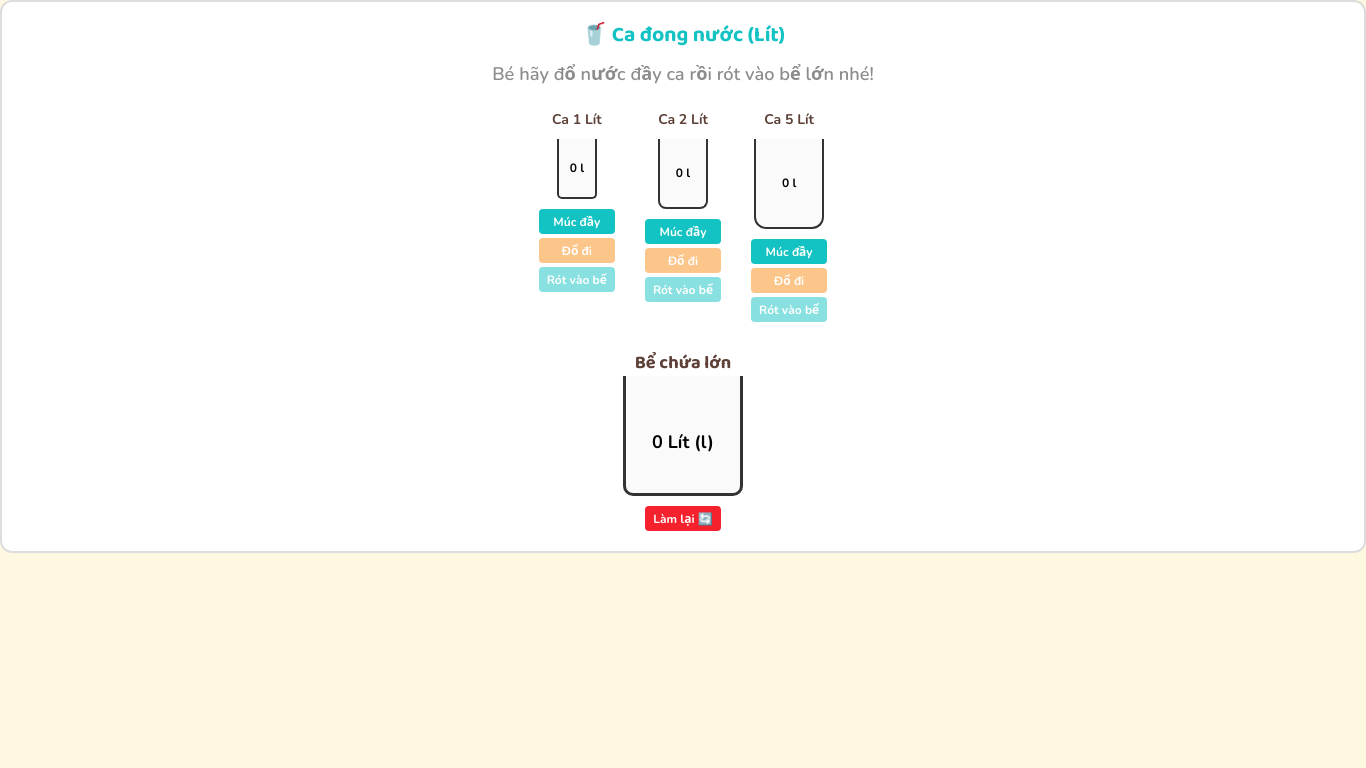
Scenario: LitreCup visualizer › pours multiple cups consecutively and accumulates volume in the tank
Note: Fill and pour 1l
Click the button with test id "fill-1l" at (577, 222), box [539,209,615,234]
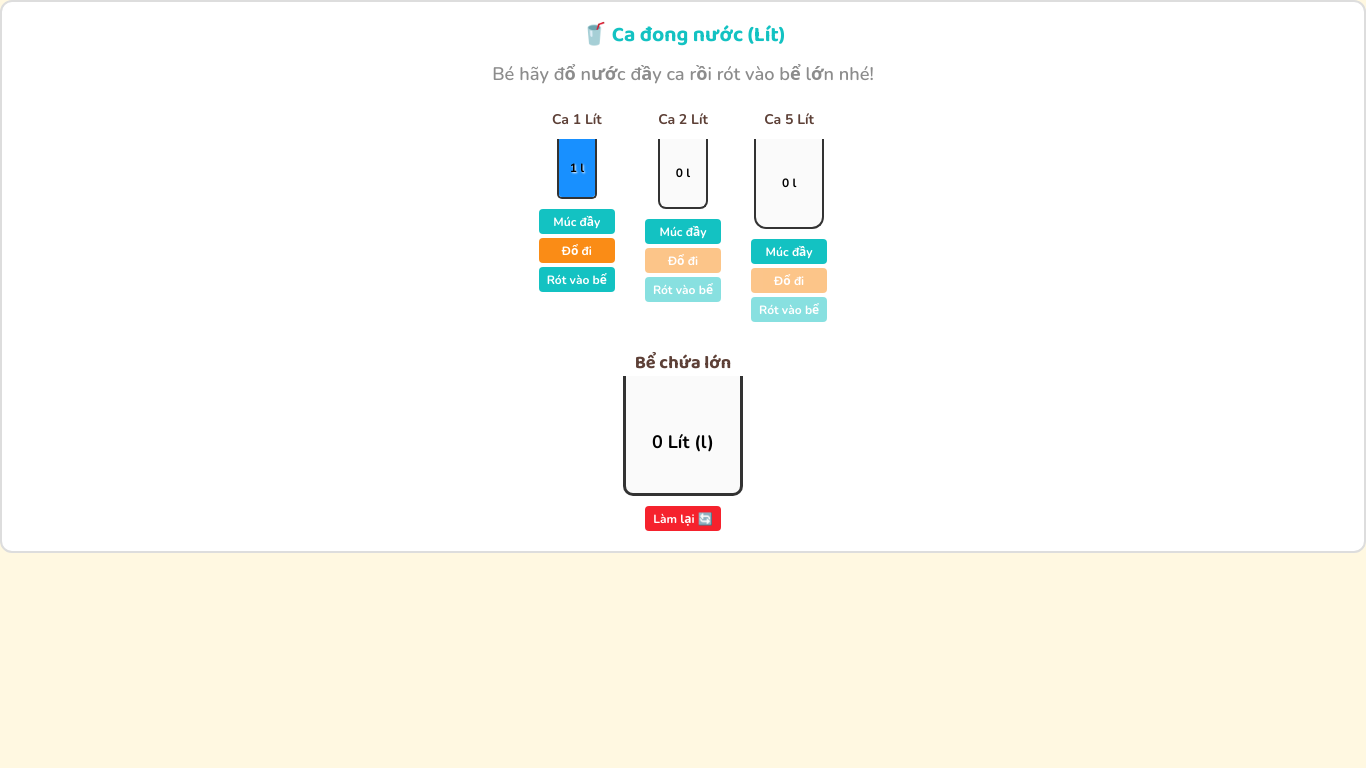
Click the button with test id "pour-1l" at (577, 280), box [539,267,615,292]
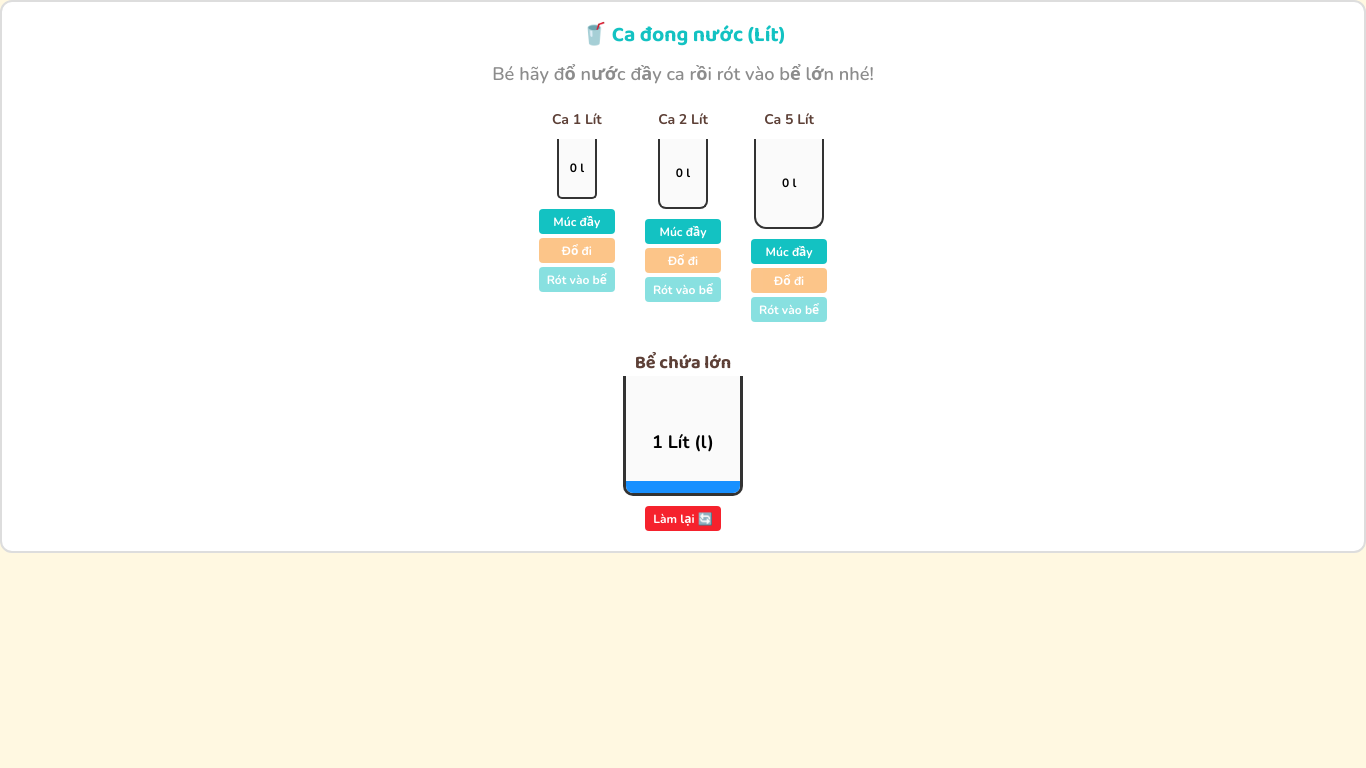
Now the text with test id "tank-label" reads "1 Lít (l)", box [652,430,714,454]
Note: Fill and pour 2l
Click the button with test id "fill-2l" at (683, 232), box [645,219,721,244]
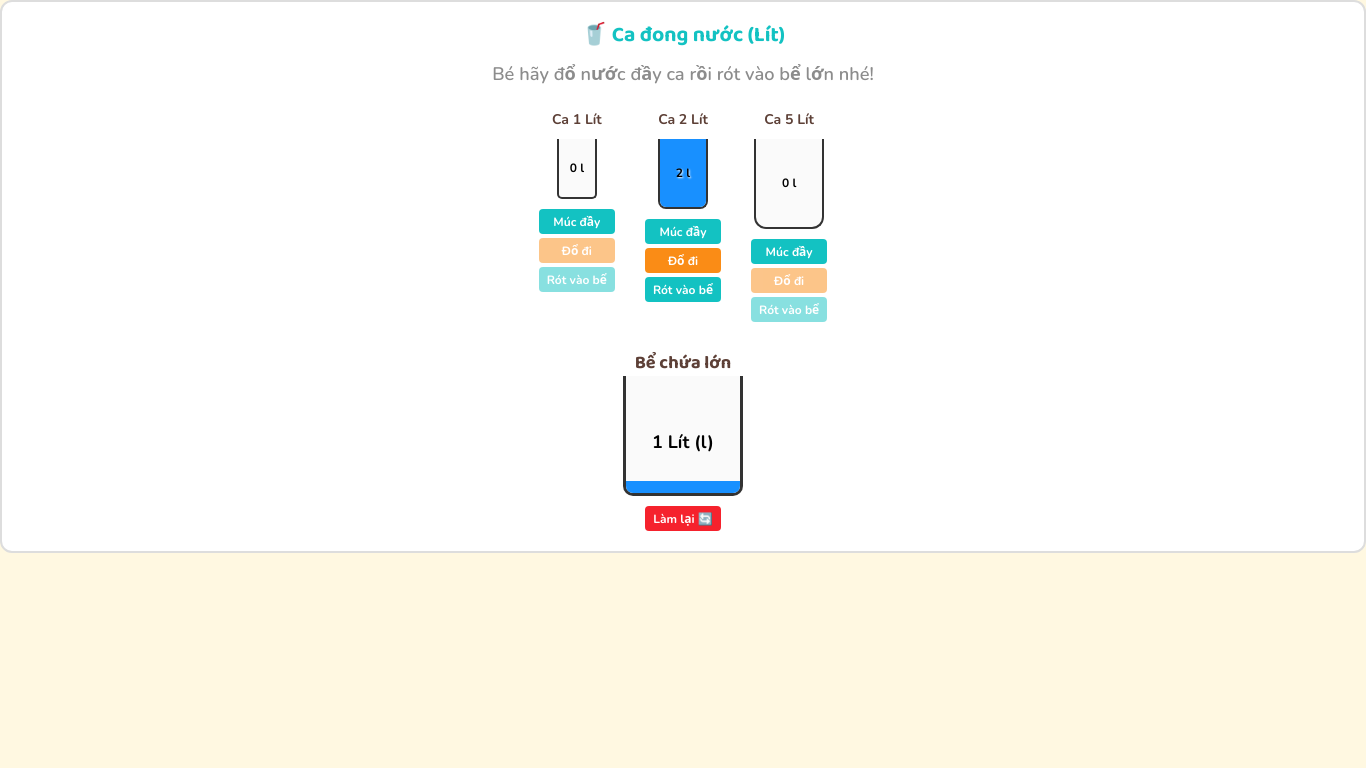
Click the button with test id "pour-2l" at (683, 290), box [645,277,721,302]
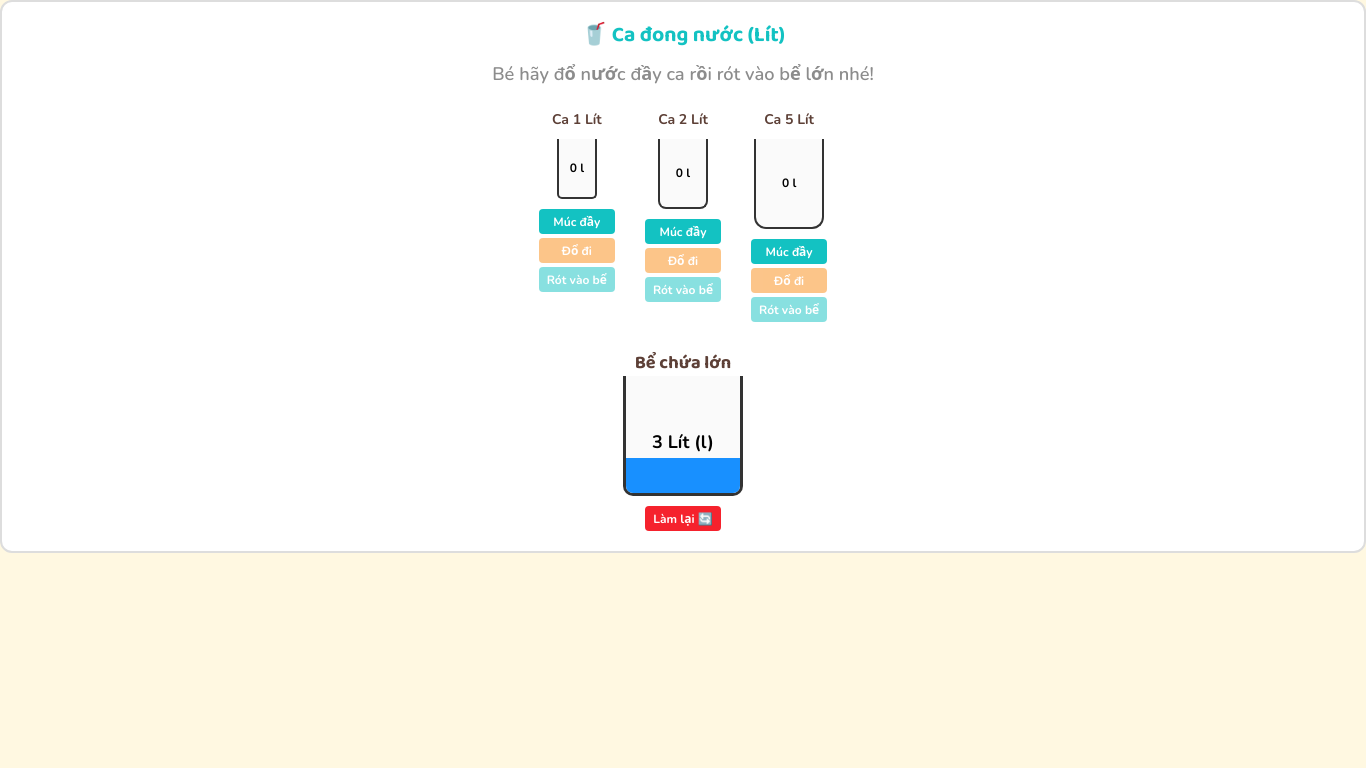
Now the text with test id "tank-label" reads "3 Lít (l)", box [652,430,714,454]
Note: Fill and pour 5l
Click the button with test id "fill-5l" at (789, 252), box [751,239,827,264]
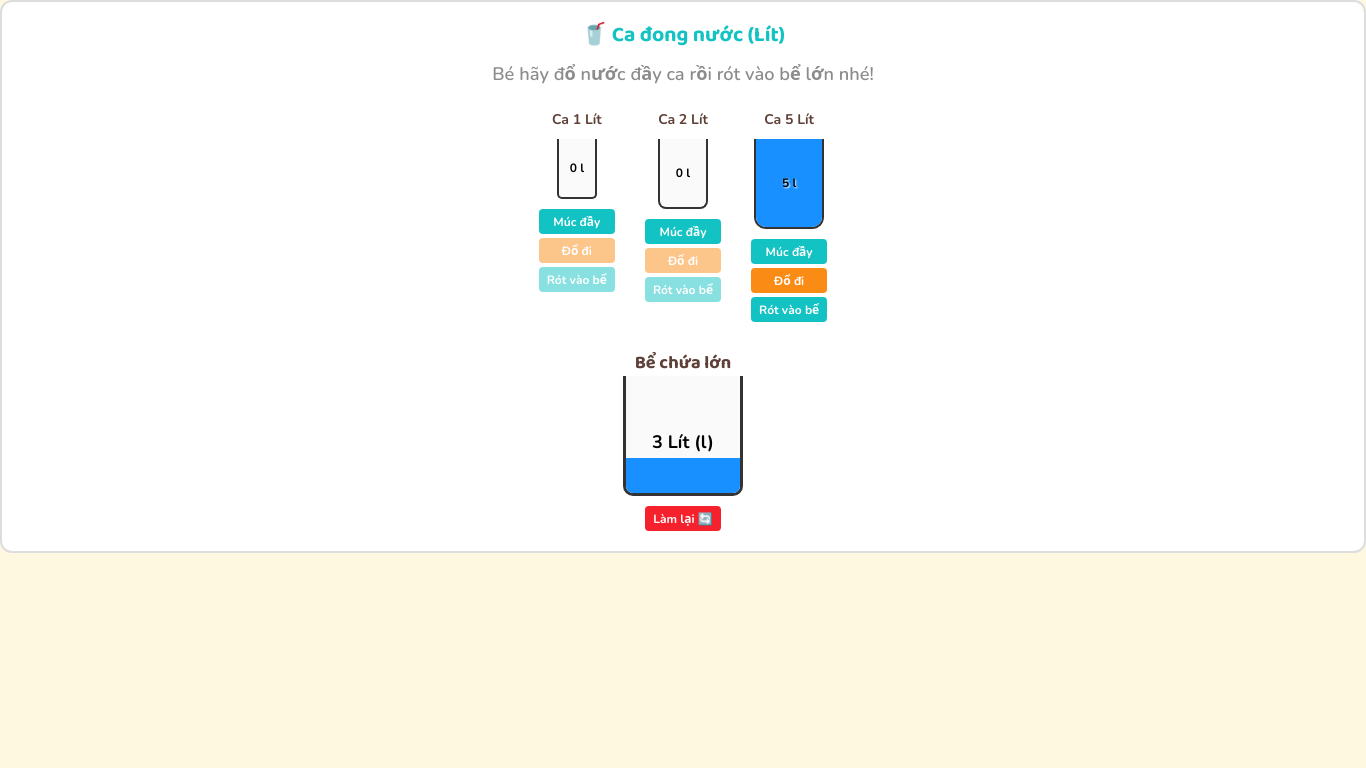
Click the button with test id "pour-5l" at (789, 310), box [751,297,827,322]
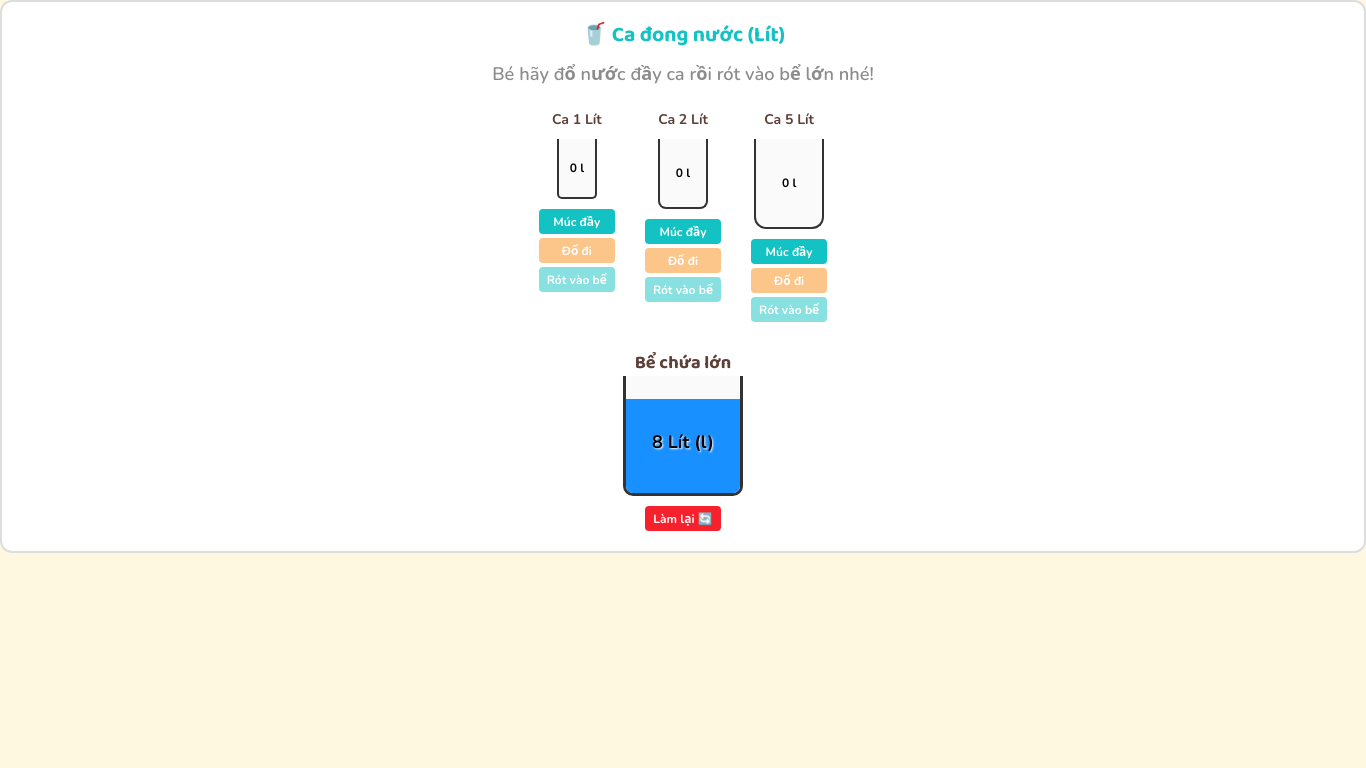
Now the text with test id "tank-label" reads "8 Lít (l)", box [652,430,714,454]
